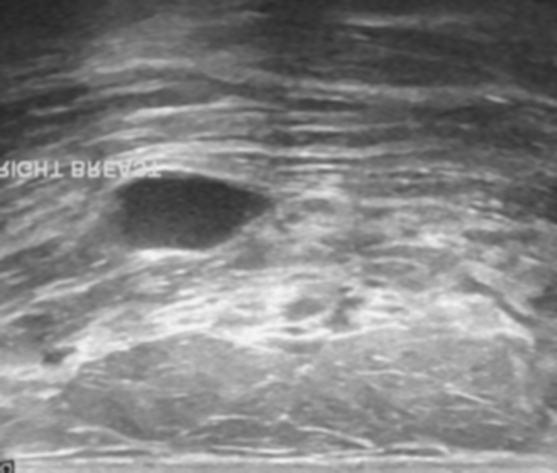Benign: (130, 163, 255, 252)
